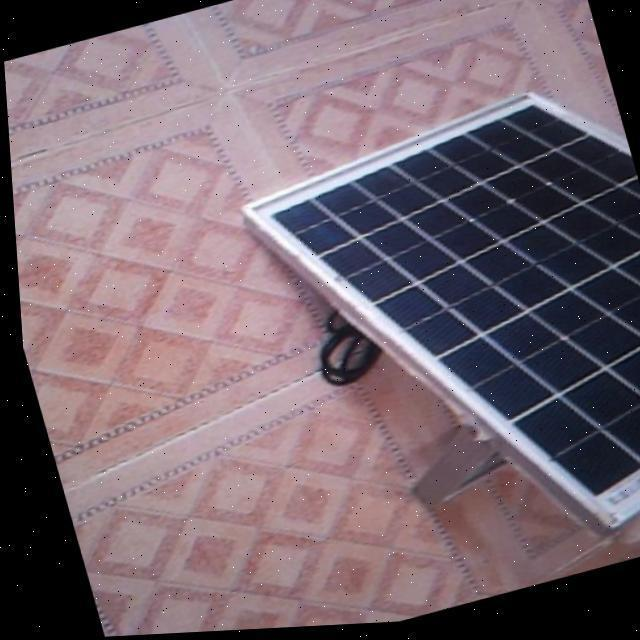Normal Solar Panel: (223, 77, 640, 606)
